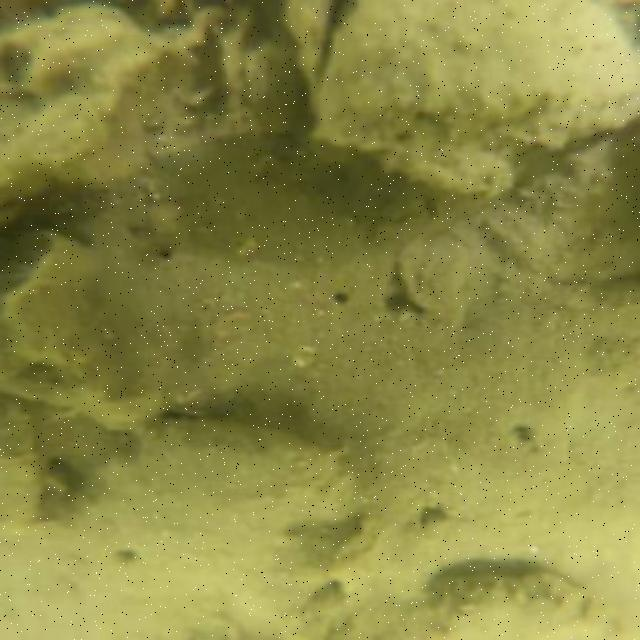Oyster-Closed: (455, 128, 638, 286)
Oyster-Open: (292, 0, 638, 209)
